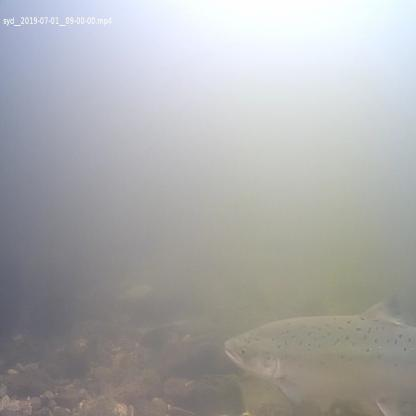salmon: (221, 297, 416, 415)
